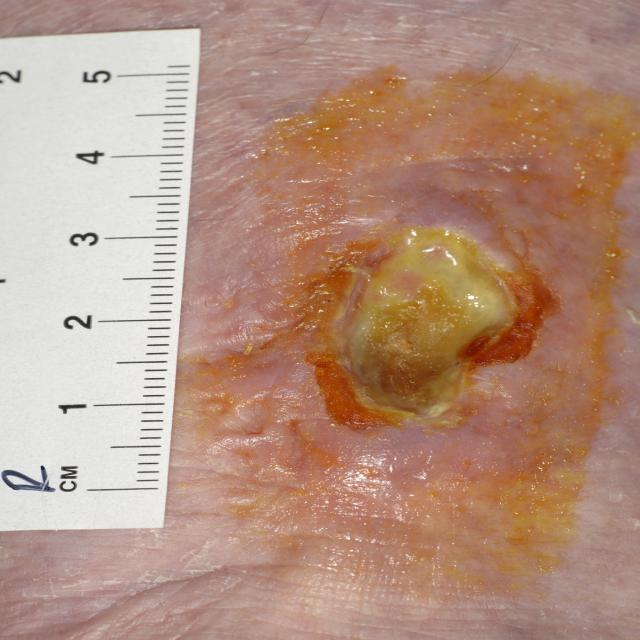wound: (302, 224, 541, 430)
